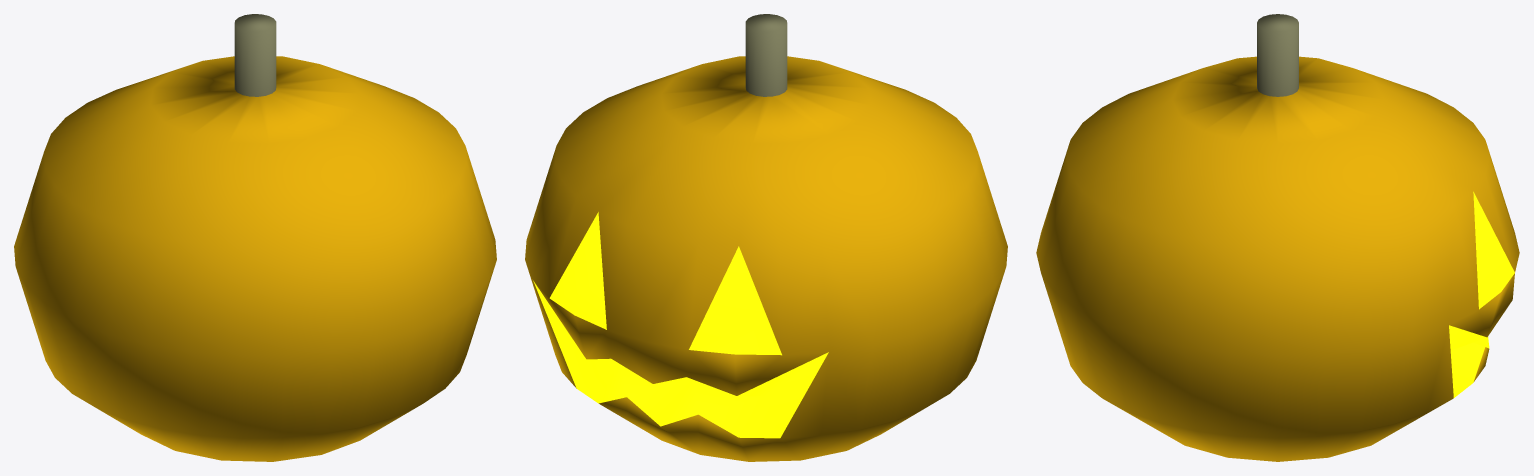
Rendered from jackO.glb.
The picture shows the model from 3 angles, left to right: view 1: azimuth 30°, elevation 25°; view 2: azimuth 150°, elevation 25°; view 3: azimuth 270°, elevation 25°; orthographic projection.
Parts seen in each view (by area): view 1: jack-o-lantern1; view 2: jack-o-lantern1; view 3: jack-o-lantern1.
Boxes of the visible parts, bbox=[...] form: jack-o-lantern1: bbox=[14, 14, 496, 461]; jack-o-lantern1: bbox=[525, 14, 1007, 461]; jack-o-lantern1: bbox=[1036, 14, 1519, 461].
Size of the model in its own units: 2.29 by 2 by 2.29.
